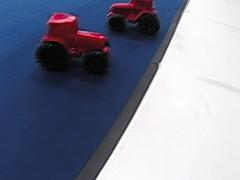Tracktor: (35, 10, 114, 73), (105, 0, 159, 34)
